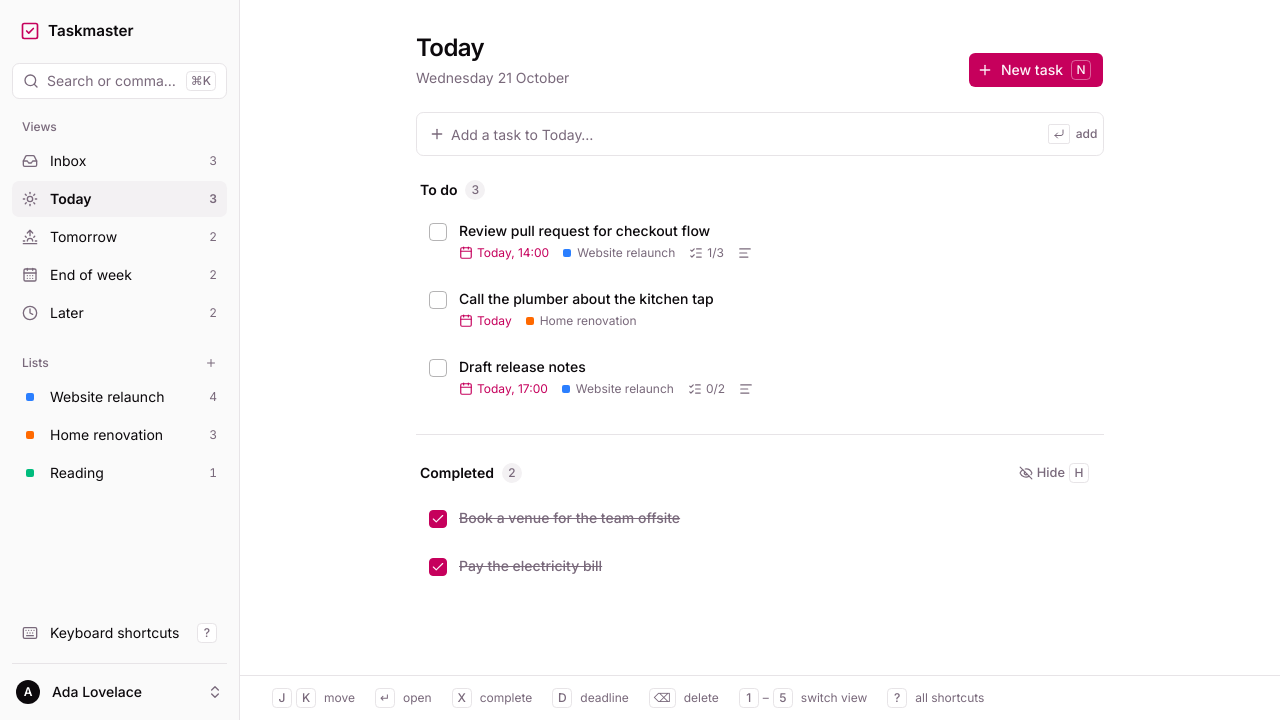
it: WorkspaceScreen › shows the deadline and list it recognises under the new task field
Type "Plan friday party ^next week #home" into the field named "New task".
click(746, 134); type("Plan friday party ^next week #home")  # box 445,118 -> 1048,150
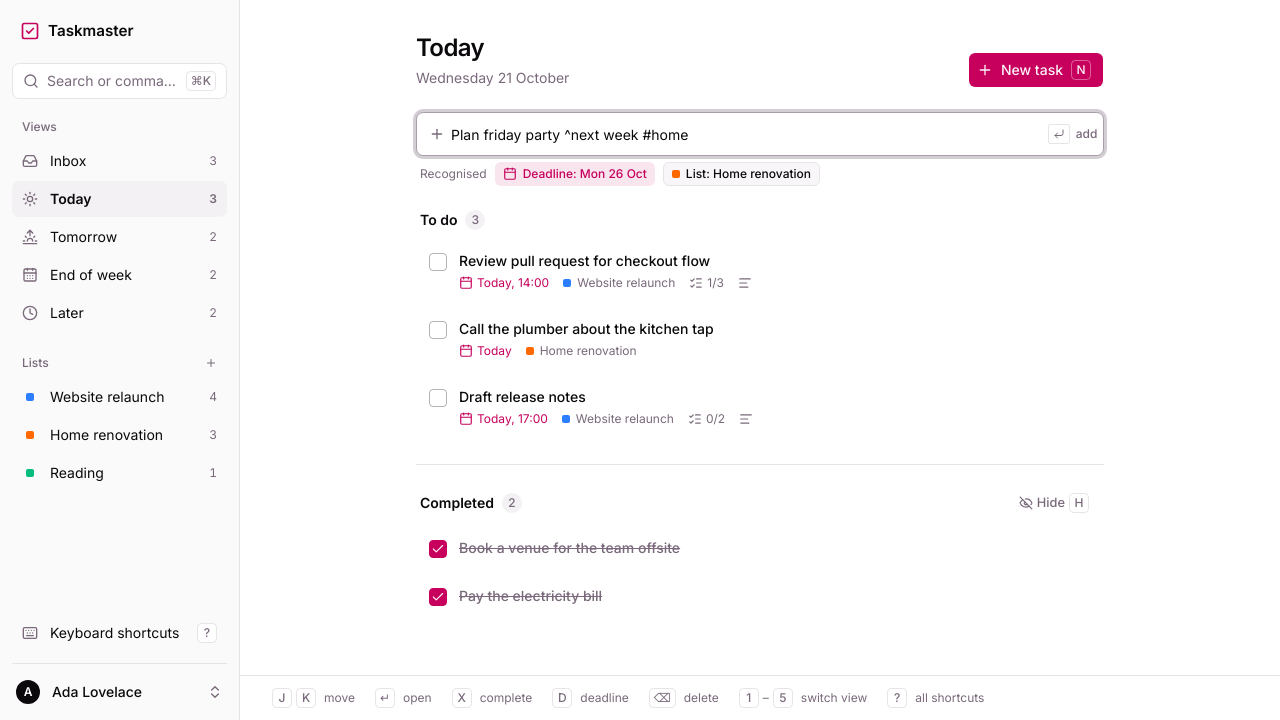
Now the text "Deadline: Mon 26 Oct" is shown, box 495,162 -> 655,186
Now the text "List: Home renovation" is shown, box 663,162 -> 820,186
